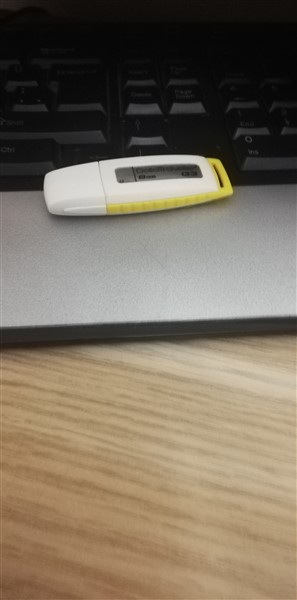flash disk: (39, 151, 246, 220)
klavye: (1, 2, 297, 352)
